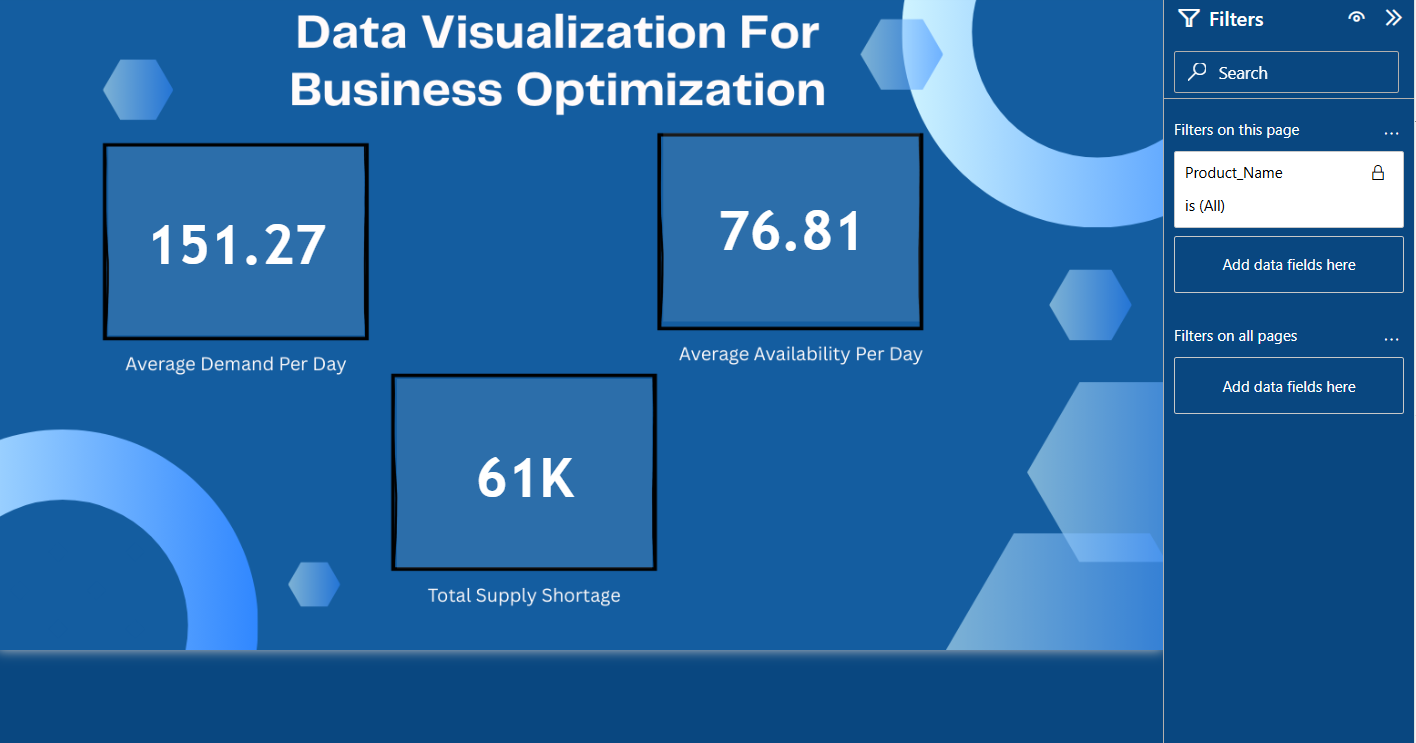

What the dashboard file says about the page in this screenshot:
{"tool":"powerbi","page":{"name":"Page 1","canvas":[1280,720],"ordinal":0},"visuals":[{"type":"card","fields":{"Values":["Measure Table.Average Demand Per Day"]},"box":[122.6,167.9,281,207.1],"z":0},{"type":"card","fields":{"Values":["Measure Table.Average Availability Per Day"]},"box":[731,152.7,281.3,206.8],"z":1000},{"type":"card","fields":{"Values":["Measure Table.Total Supply Shortage"]},"box":[438.9,423.2,280.1,208],"z":2000}]}

Visuals, with their boxes on the page's 1280x720 design canvas (x1, y1, x2, y2). These are canvas units, not pixel positions in the 1416x743 screenshot, which may show the page scaled, cropped or inside an application window:
card - Measure Table.Average Demand Per Day: 123, 168, 404, 375
card - Measure Table.Average Availability Per Day: 731, 153, 1012, 360
card - Measure Table.Total Supply Shortage: 439, 423, 719, 631
